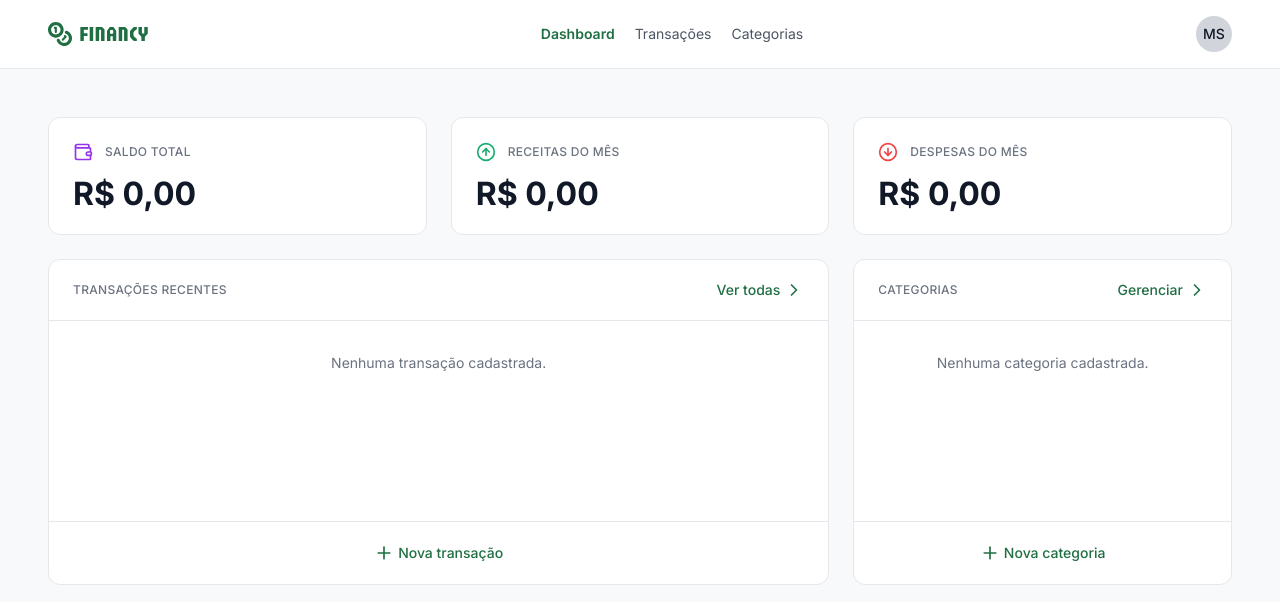
Test: auth navigation › navega para /transactions pelo link da navbar
Click the link "Transações": (673,34) [635,24,711,44]
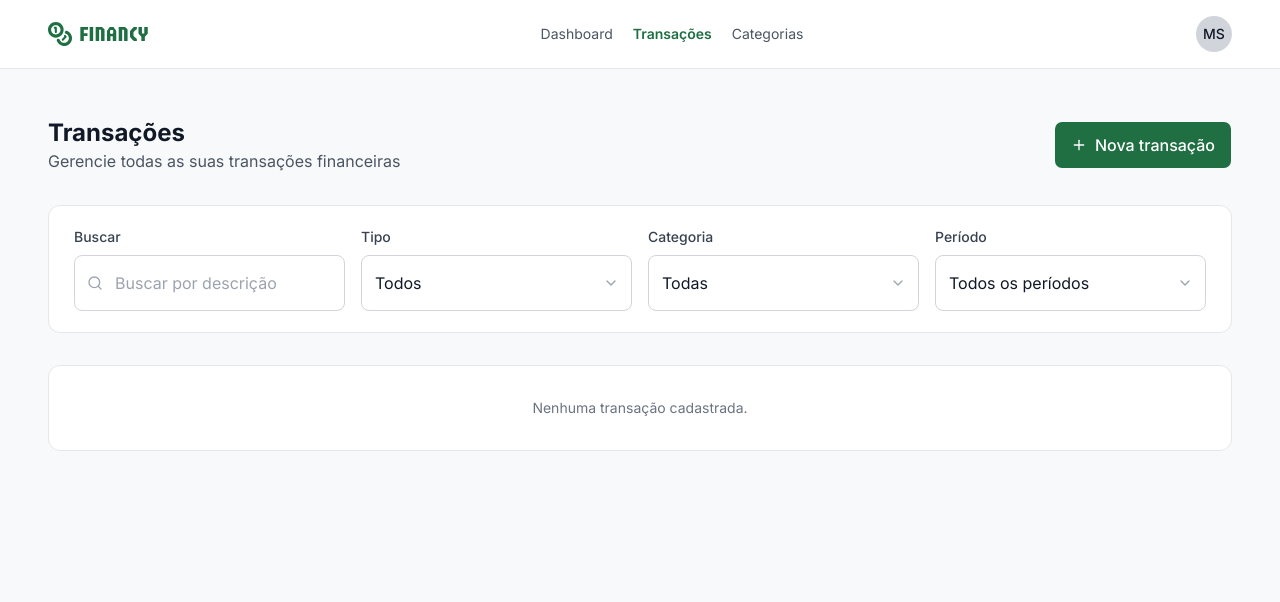
Expected: the heading "Transações" is shown, [48,118,185,147]
